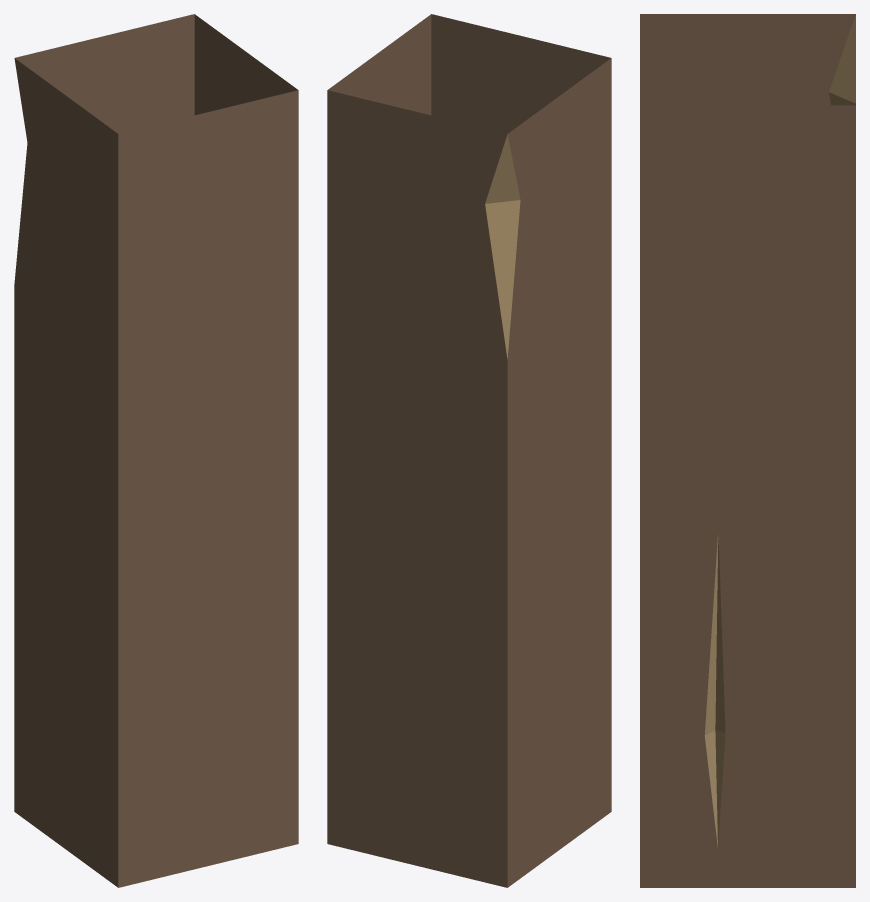
Rendered from Cave_Prop_Support_Wall_Pillar_4.obj.
3 renders of one model, left to right at view 1: azimuth 30°, elevation 25°; view 2: azimuth 150°, elevation 25°; view 3: azimuth 270°, elevation 25°, orthographic. The views are drawn at different scales.
Visible parts, largest first — view 1: object1; view 2: object1; view 3: object1.
Boxes of the visible parts, box(x1,y1,x2,y2) form: object1: box(14, 14, 298, 887); object1: box(327, 14, 611, 887); object1: box(640, 14, 855, 887).
Size of the model in its own units: 0.25 by 1 by 0.25.
